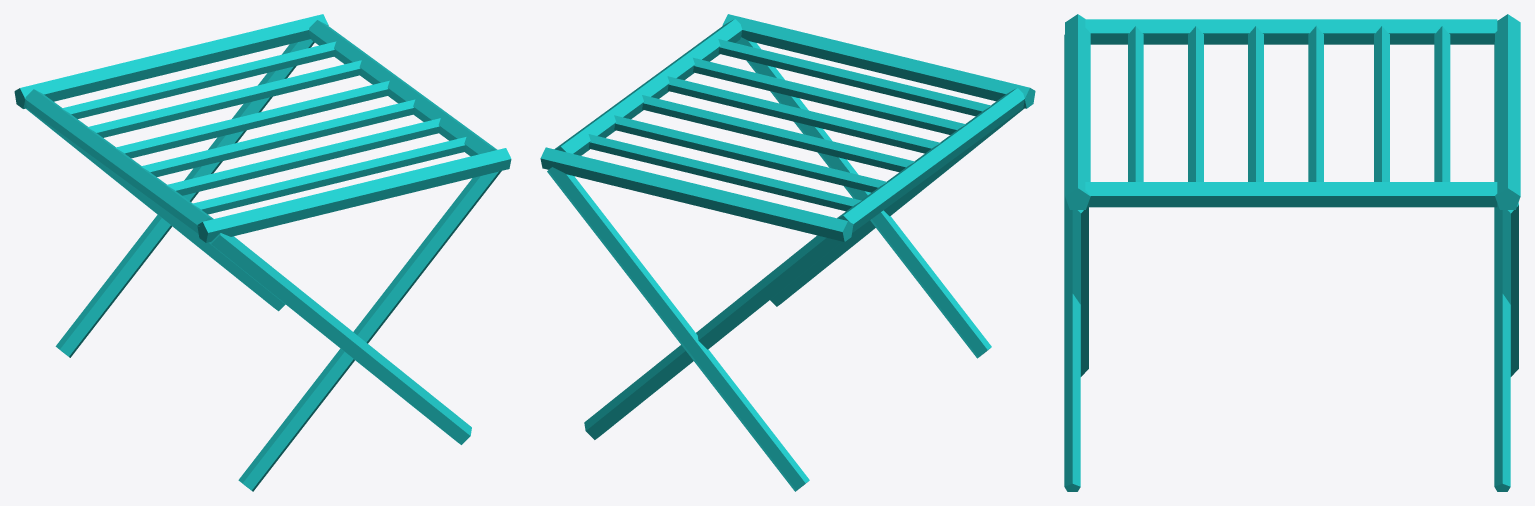
The model's file is tendedero.fbx.
3 renders of one model, left to right at view 1: azimuth 30°, elevation 25°; view 2: azimuth 150°, elevation 25°; view 3: azimuth 270°, elevation 25°, orthographic. The views are drawn at different scales.
Parts seen in each view (by area): view 1: TenderoDeRopa; view 2: TenderoDeRopa; view 3: TenderoDeRopa.
Part boxes in pixels (<box>): TenderoDeRopa: <box>14,14,511,491</box>; TenderoDeRopa: <box>540,14,1035,491</box>; TenderoDeRopa: <box>1064,14,1520,491</box>.
Size of the model in its own units: 0.8784 by 0.7846 by 0.9726.
